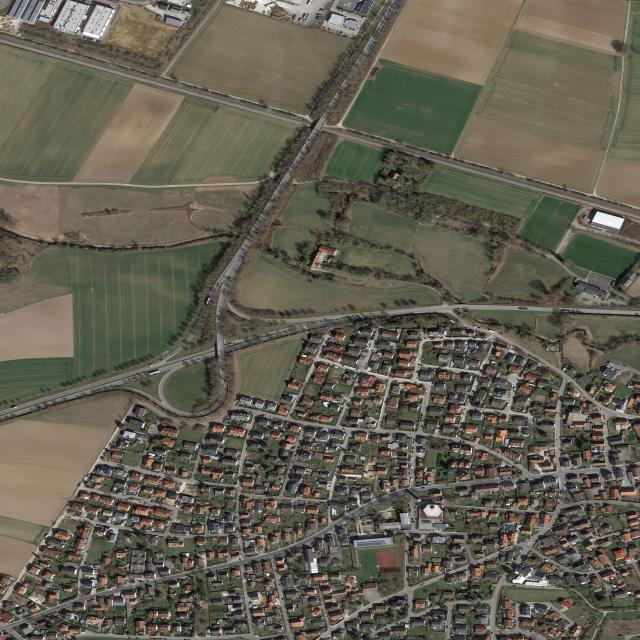large-vehicle: (150, 371, 160, 375), (206, 298, 210, 304), (306, 15, 310, 21), (574, 278, 579, 282), (11, 406, 17, 409), (316, 13, 322, 16), (419, 584, 425, 587), (78, 483, 82, 487), (45, 534, 49, 538), (299, 18, 303, 22), (228, 343, 233, 346), (544, 559, 549, 562), (317, 19, 322, 22), (489, 330, 494, 332), (363, 17, 368, 19), (317, 17, 322, 19), (53, 522, 56, 525), (425, 390, 428, 393), (343, 11, 346, 14), (455, 435, 458, 438), (149, 365, 153, 367), (473, 326, 477, 328), (520, 309, 528, 310), (325, 258, 328, 260), (584, 216, 586, 219), (339, 461, 342, 463), (291, 171, 294, 173), (303, 19, 305, 22), (411, 466, 413, 469), (411, 457, 413, 460), (411, 479, 413, 482), (108, 589, 113, 590), (619, 636, 624, 637), (415, 515, 417, 517)
small-vehicle: (508, 548, 512, 551), (116, 586, 120, 589), (171, 353, 174, 356), (323, 26, 326, 29), (341, 32, 344, 35), (328, 332, 331, 335), (273, 199, 276, 202), (563, 311, 571, 312), (579, 394, 583, 396), (134, 4, 138, 6), (138, 4, 142, 6), (133, 378, 137, 380), (414, 382, 418, 384), (159, 638, 163, 640), (294, 419, 298, 421), (310, 358, 314, 360), (154, 581, 158, 583), (146, 580, 150, 582), (57, 608, 61, 610), (321, 617, 325, 619), (517, 476, 520, 478), (558, 397, 560, 400), (512, 477, 515, 479), (501, 478, 504, 480), (559, 491, 561, 494), (521, 541, 524, 543), (491, 631, 493, 634), (66, 603, 69, 605), (591, 462, 593, 465), (635, 313, 638, 315), (228, 276, 230, 279), (160, 359, 163, 361), (634, 277, 637, 279), (135, 637, 138, 639), (128, 637, 131, 639), (149, 638, 152, 640), (345, 26, 347, 29), (157, 503, 160, 505), (420, 419, 422, 422), (420, 417, 423, 419), (306, 146, 308, 149), (356, 369, 359, 371), (342, 365, 345, 367), (495, 411, 498, 413), (479, 409, 482, 411), (339, 31, 342, 33), (337, 30, 339, 33), (90, 38, 92, 40), (92, 39, 94, 41), (96, 40, 98, 42), (98, 40, 100, 42), (99, 41, 101, 43), (556, 439, 558, 441), (518, 542, 520, 544), (145, 503, 147, 505), (533, 585, 535, 587), (234, 401, 236, 403), (222, 385, 224, 387), (353, 28, 355, 30), (217, 637, 221, 638), (152, 638, 156, 639), (412, 447, 414, 449), (413, 439, 415, 441), (421, 414, 423, 416), (308, 139, 310, 141), (603, 415, 605, 417), (411, 469, 413, 471), (527, 538, 531, 539), (279, 584, 281, 586), (246, 439, 248, 441), (197, 359, 201, 360), (350, 28, 352, 30), (328, 28, 330, 30), (413, 521, 415, 523), (415, 509, 417, 511), (407, 509, 411, 510), (411, 518, 413, 520), (513, 585, 516, 586), (79, 520, 82, 521), (508, 478, 511, 479), (139, 638, 142, 639), (164, 639, 167, 640), (156, 638, 159, 639), (446, 485, 449, 486), (506, 550, 509, 551), (235, 551, 238, 552), (142, 582, 145, 583), (408, 510, 411, 511), (408, 512, 411, 513), (86, 37, 87, 39), (89, 38, 90, 40), (558, 502, 559, 504), (87, 38, 89, 39), (85, 37, 86, 39), (604, 423, 605, 425), (604, 418, 605, 420), (217, 283, 218, 285), (155, 6, 157, 7), (325, 260, 327, 261), (413, 441, 414, 443), (412, 451, 413, 453), (557, 412, 558, 414), (411, 473, 412, 475), (282, 598, 283, 600), (415, 506, 416, 508), (412, 521, 413, 523), (83, 37, 84, 38)
